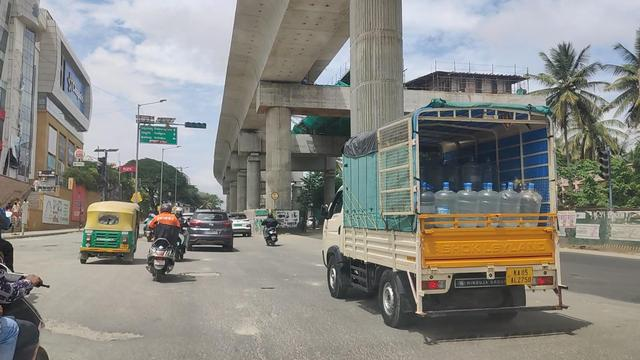HMV: (323, 90, 568, 334)
LMV: (84, 203, 138, 258), (154, 199, 186, 287)
RoadDamages: (43, 310, 147, 344)
